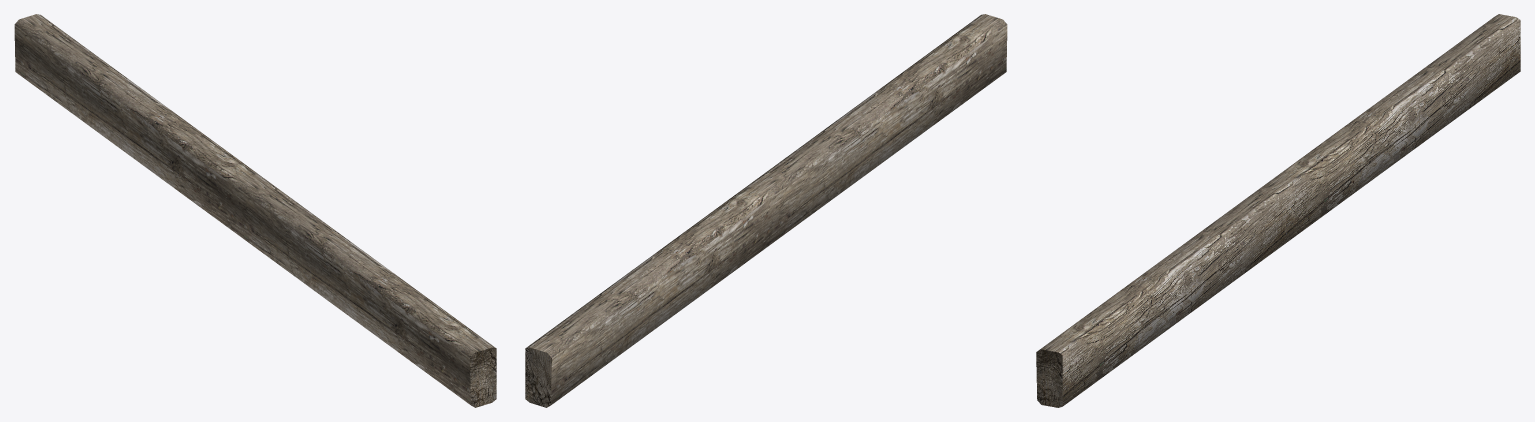
File: Wood_Beam_0B.fbx
3 views of the same model, side by side, from view 1: azimuth 30°, elevation 25°; view 2: azimuth 150°, elevation 25°; view 3: azimuth 330°, elevation 25° (orthographic).
Parts seen in each view (by area): view 1: Wood_Beam_0B; view 2: Wood_Beam_0B; view 3: Wood_Beam_0B.
Boxes of the visible parts, bbox=[...] form: Wood_Beam_0B: bbox=[14, 14, 496, 407]; Wood_Beam_0B: bbox=[525, 14, 1007, 407]; Wood_Beam_0B: bbox=[1036, 14, 1520, 407].
Size of the model in its own units: 0.2414 by 0.4921 by 7.2.
